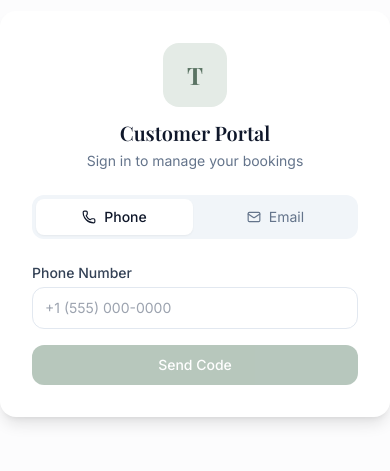
Test: PortalLoginPage › OTP flow: sends code and shows OTP inputs
The width and height of the screenshot is (390, 471).
Type "+1234567890" into the field with test id "phone-input". click: (195, 308)
box: [32, 287, 358, 329]
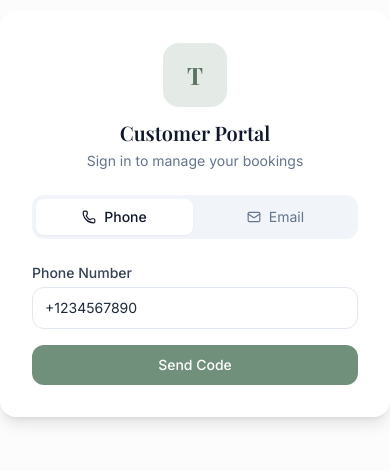
Click the button with test id "send-otp-btn". click: (195, 365)
box: [32, 345, 358, 385]
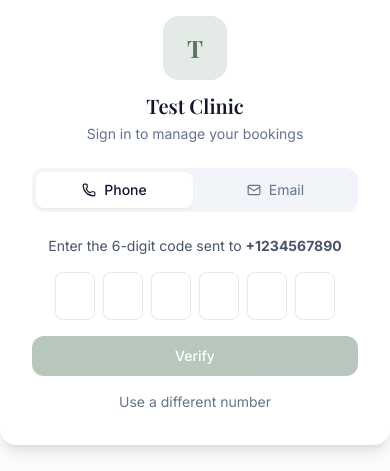
Now the element with test id "otp-inputs" is shown, box [32, 272, 358, 320]
Now the button with test id "verify-otp-btn" is shown, box [32, 336, 358, 376]
